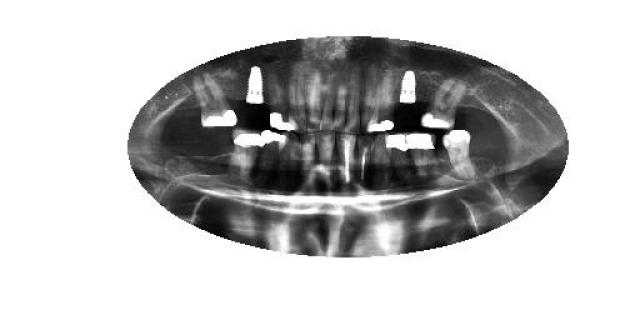Fillings: (423, 68, 465, 130), (194, 76, 238, 126), (265, 66, 295, 134), (407, 131, 442, 181), (367, 70, 395, 132), (383, 132, 412, 188), (260, 130, 288, 175), (232, 130, 262, 171)
Implant: (242, 65, 264, 110), (395, 69, 417, 111)
